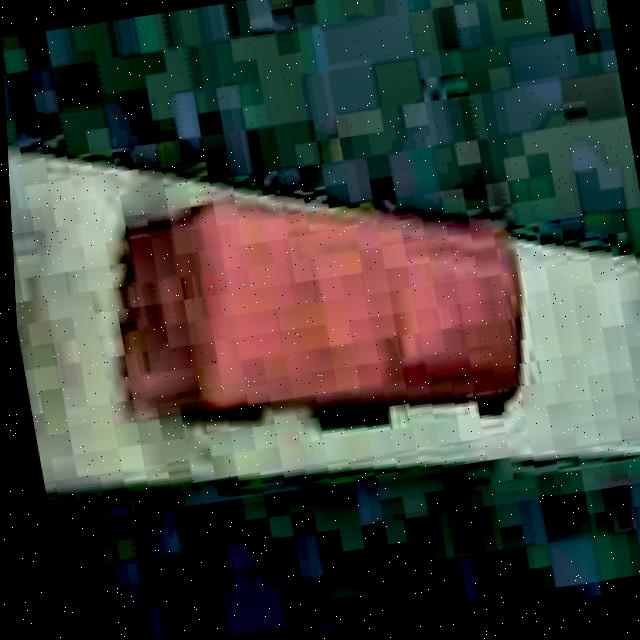bus: (82, 157, 551, 474)
